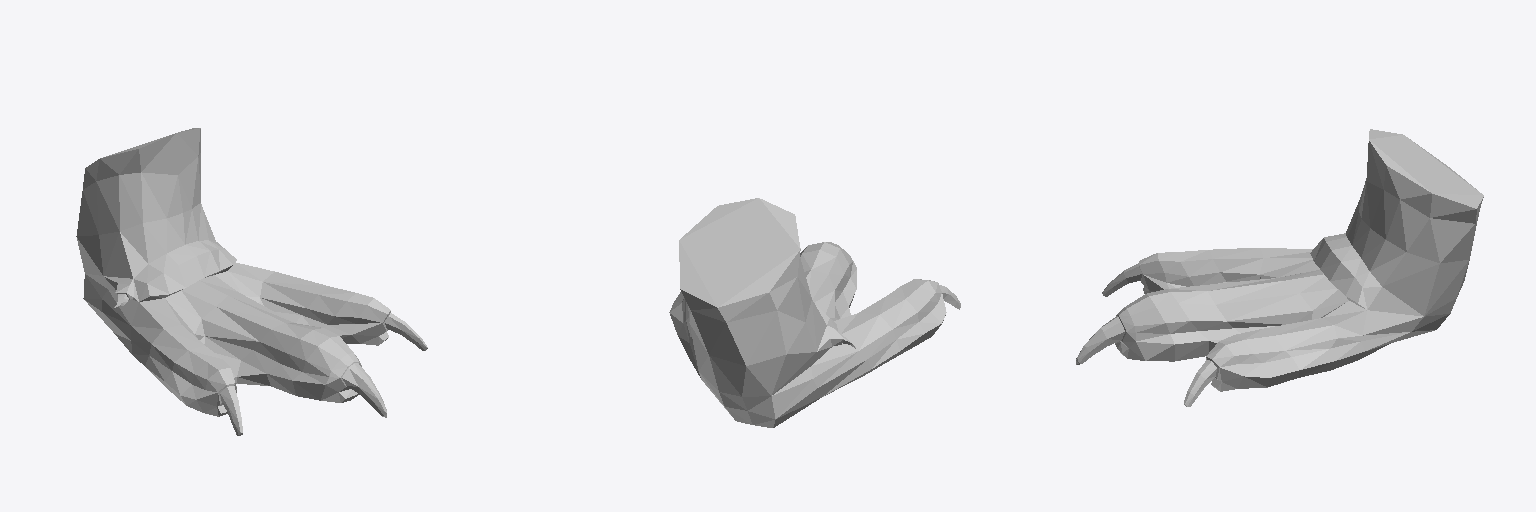
Rendered from fB_leftleg.obj.
3 renders of one model, left to right at view 1: azimuth 30°, elevation 25°; view 2: azimuth 150°, elevation 25°; view 3: azimuth 270°, elevation 25°, orthographic.
Parts seen in each view (by area): view 1: Animal.002; view 2: Animal.002; view 3: Animal.002.
Part boxes in pixels (x1,y1,x2,y2): Animal.002: (76,128,427,435); Animal.002: (669,198,960,427); Animal.002: (1076,129,1483,406).
Bounding box in the file's own units: 1.13 × 0.8616 × 1.61.